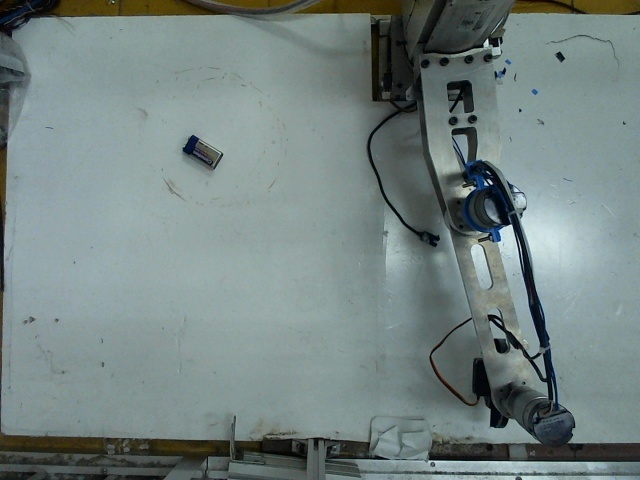battery: (180, 132, 225, 171)
